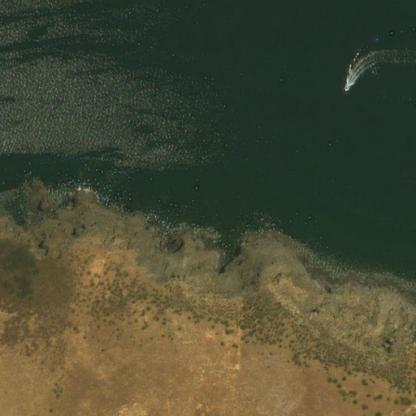ship: (338, 74, 355, 95)
